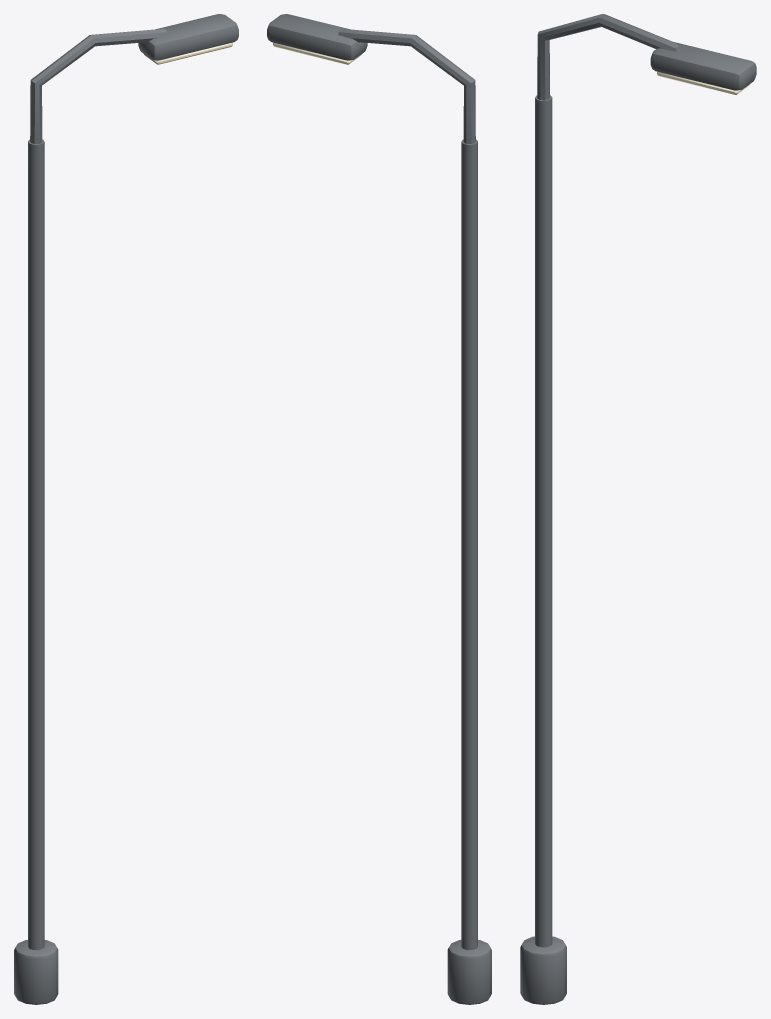
Rendered from street_lamp.glb.
3 renders of one model, left to right at view 1: azimuth 30°, elevation 25°; view 2: azimuth 150°, elevation 25°; view 3: azimuth 330°, elevation 25°, orthographic. The views are drawn at different scales.
Parts seen in each view (by area): view 1: street_lamp; view 2: street_lamp; view 3: street_lamp.
Boxes of the visible parts, x1,y1,x2,y2 form: street_lamp: (14, 14, 238, 1004); street_lamp: (267, 14, 491, 1004); street_lamp: (520, 14, 756, 1004).
Size of the model in its own units: 1.35 by 5.65 by 0.24.
